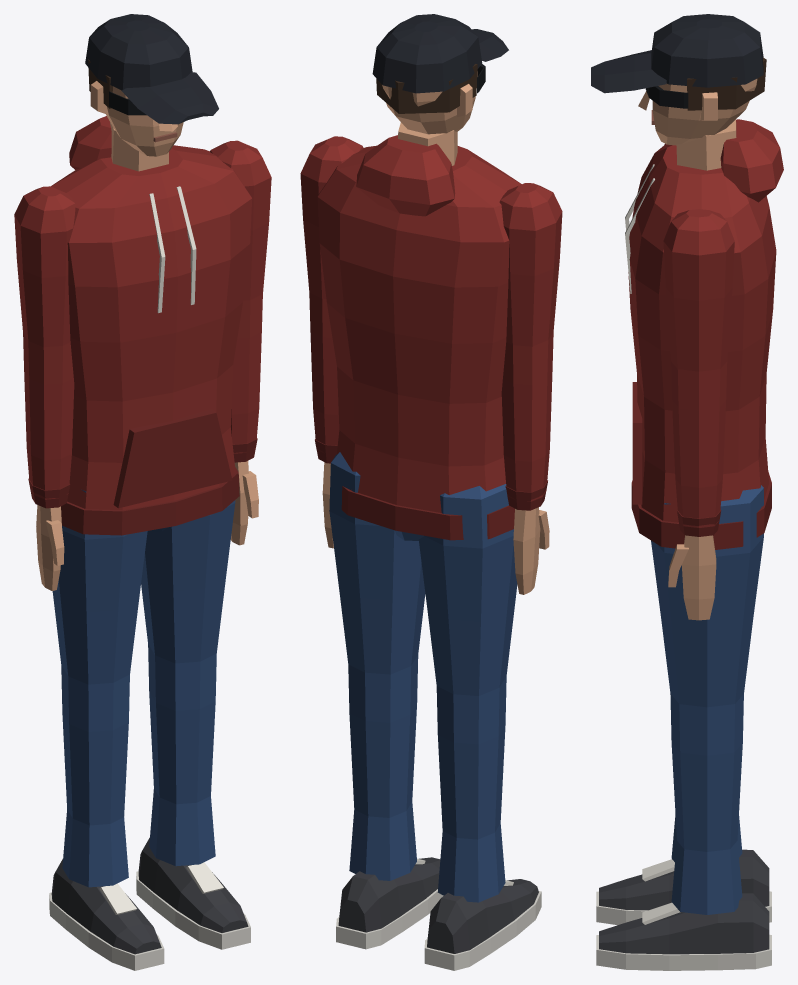
The model's file is cheer.glb.
3 views of the same model, side by side, from view 1: azimuth 30°, elevation 25°; view 2: azimuth 150°, elevation 25°; view 3: azimuth 270°, elevation 25° (orthographic). The views are drawn at different scales.
Parts seen in each view (by area): view 1: Body, LegR, LegL, ArmR, ArmL; view 2: Body, LegR, LegL, ArmR, ArmL; view 3: Body, LegL, ArmL, LegR.
Part boxes in pixels (x1,y1,x2,y2): Body: (51, 14, 252, 535); LegR: (49, 489, 164, 970); LegL: (136, 500, 250, 949); ArmR: (14, 186, 76, 590); ArmL: (210, 140, 271, 545); Body: (317, 14, 521, 540); LegR: (418, 484, 541, 970); LegL: (329, 452, 443, 949); ArmR: (499, 183, 562, 594); ArmL: (300, 136, 363, 548); Body: (591, 14, 783, 549); LegL: (596, 485, 771, 970); ArmL: (663, 209, 734, 620); LegR: (596, 814, 771, 925).
Bounding box in the file's own units: 0.5121 × 1.78 × 0.3411.
